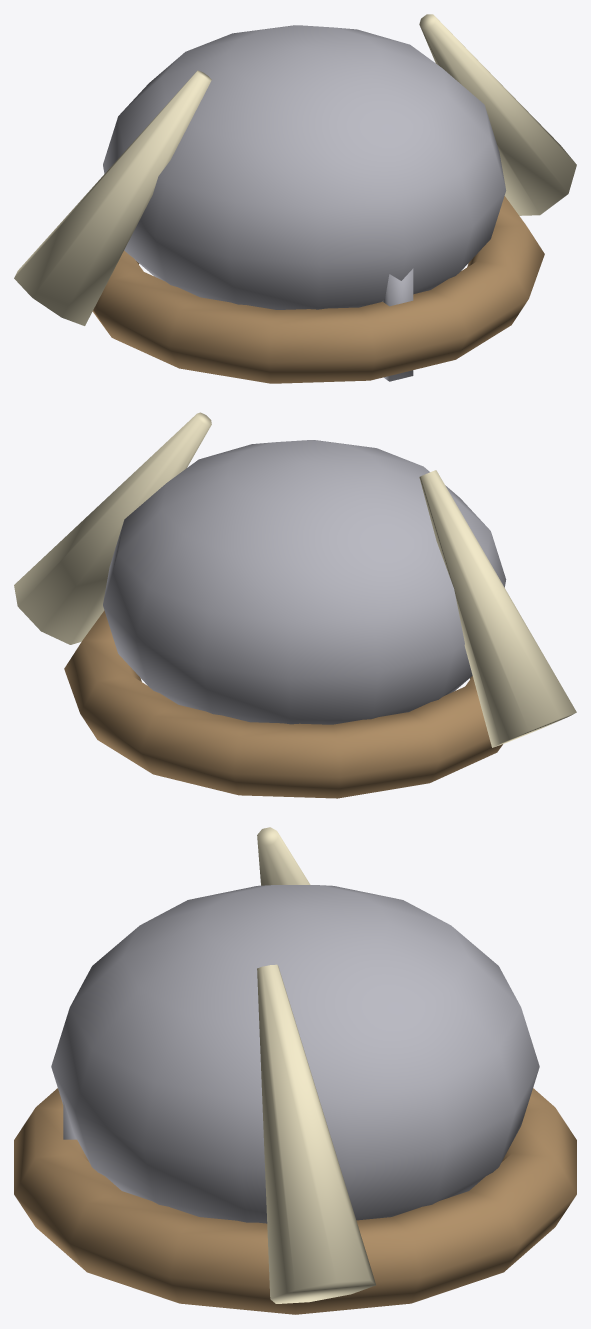
File: hat_viking.glb
3 views of the same model, one above another, from view 1: azimuth 30°, elevation 25°; view 2: azimuth 150°, elevation 25°; view 3: azimuth 270°, elevation 25° (orthographic). The views are drawn at different scales.
Visible parts, largest first — view 1: hat_viking; view 2: hat_viking; view 3: hat_viking.
Part boxes in pixels (x1=…): hat_viking: x1=14, y1=14, x2=576, y2=383; hat_viking: x1=14, y1=412, x2=576, y2=798; hat_viking: x1=14, y1=827, x2=576, y2=1314.
Bounding box in the file's own units: 0.6807 × 0.3244 × 0.507.
